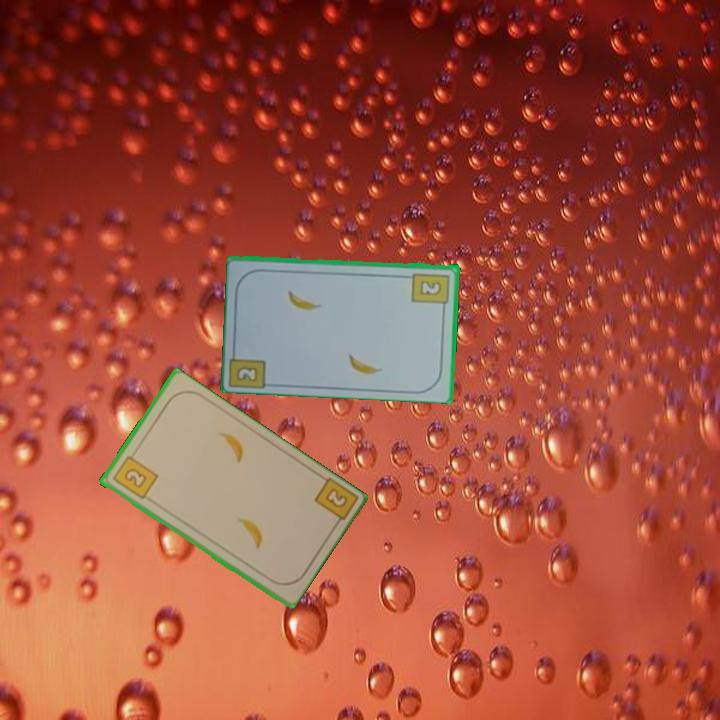2b: (310, 474, 358, 532), (109, 448, 160, 502), (228, 344, 270, 389), (409, 269, 452, 312)
